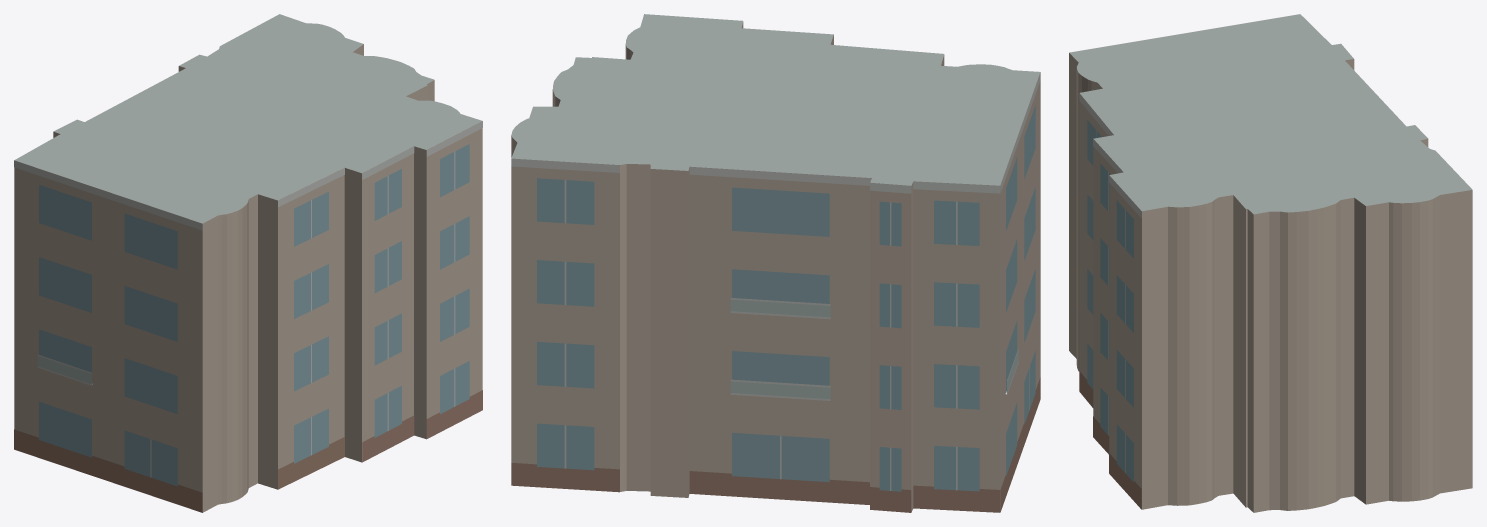
File: survey-upis-32881925.glb
3 renders of one model, left to right at view 1: azimuth 30°, elevation 25°; view 2: azimuth 150°, elevation 25°; view 3: azimuth 270°, elevation 25°, orthographic. The views are drawn at different scales.
Parts seen in each view (by area): view 1: survey-upis-32881925.tmp; view 2: survey-upis-32881925.tmp; view 3: survey-upis-32881925.tmp.
Boxes of the visible parts, bbox=[...] form: survey-upis-32881925.tmp: bbox=[14, 14, 482, 512]; survey-upis-32881925.tmp: bbox=[511, 14, 1040, 512]; survey-upis-32881925.tmp: bbox=[1069, 14, 1472, 512].
Size of the model in its own units: 14.55 by 10.1 by 12.39.
